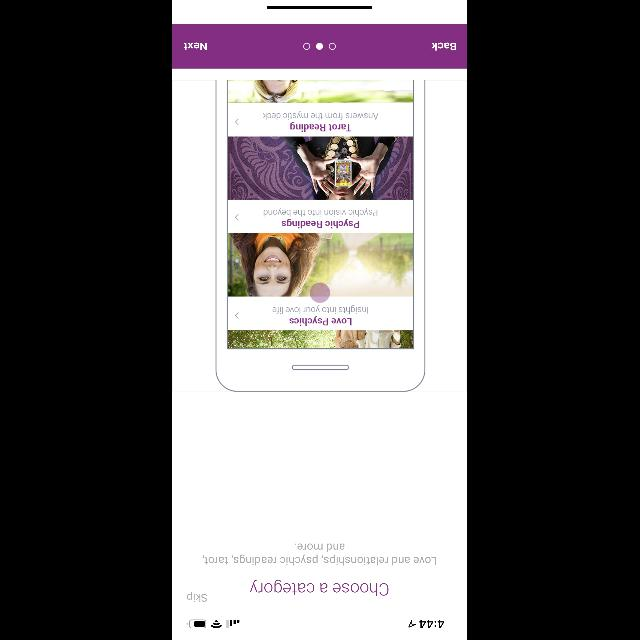image: (216, 80, 426, 392)
pageindicator: (304, 44, 336, 50)
text: (203, 543, 437, 565), (250, 580, 390, 596), (432, 43, 458, 51), (187, 592, 207, 602), (185, 42, 208, 50)
uppertaskbar: (188, 620, 444, 628)
